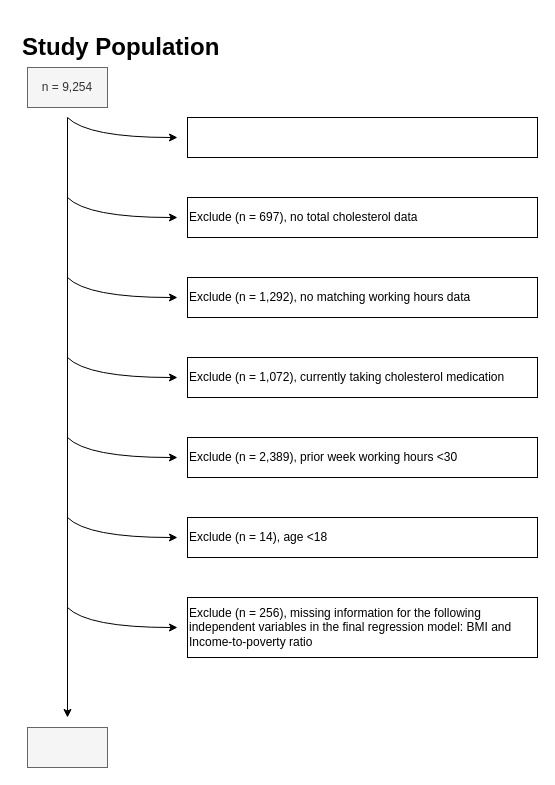
Image size: 555x785. Some labels were removed from this diagram. Here are the shapes that lost their labels. From the top down, the centre of each, then its label:
At point (362, 137): "Exclude (n = 1,819), no laboratory measurements".
At point (67, 747): "Final sample n = 1,715".
